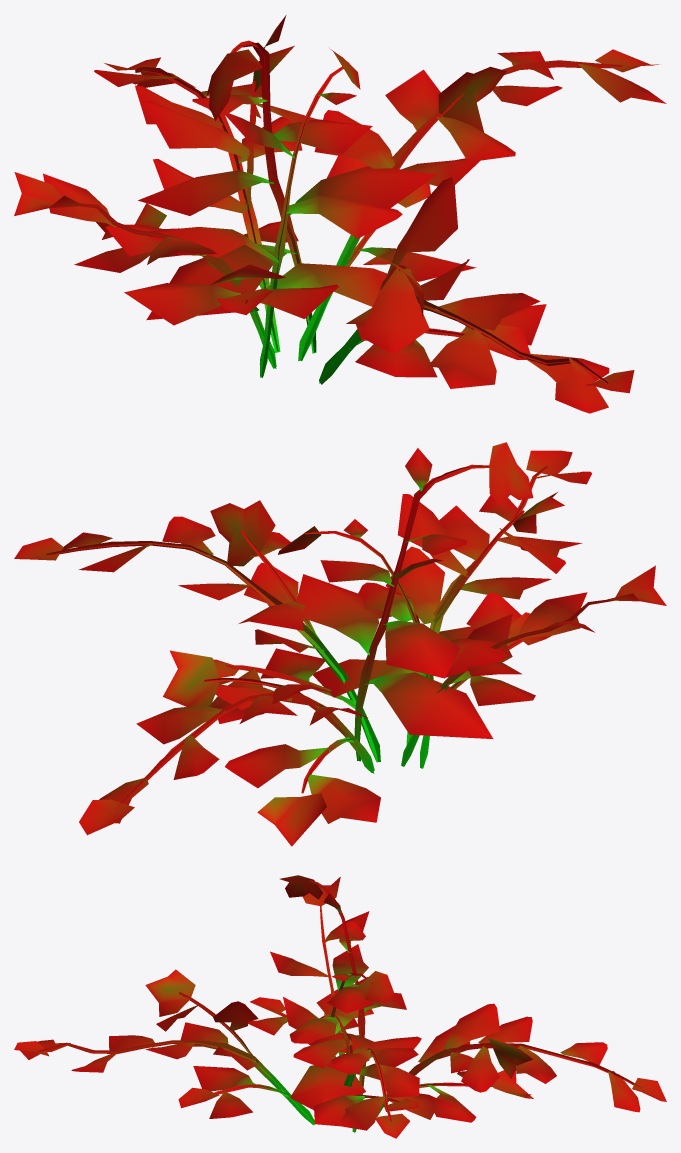
The model's file is Blackberry_LOD3_Var4_vkmofctha.fbx.
3 renders of one model, top to bottom at view 1: azimuth 30°, elevation 25°; view 2: azimuth 150°, elevation 25°; view 3: azimuth 270°, elevation 25°, orthographic. The views are drawn at different scales.
Parts seen in each view (by area): view 1: _vkui_Var4_LOD3; view 2: _vkui_Var4_LOD3; view 3: _vkui_Var4_LOD3.
Part boxes in pixels (bbox=[...]): _vkui_Var4_LOD3: bbox=[14, 15, 666, 413]; _vkui_Var4_LOD3: bbox=[14, 442, 666, 846]; _vkui_Var4_LOD3: bbox=[14, 875, 666, 1138].
Size of the model in its own units: 153 by 76.42 by 200.
